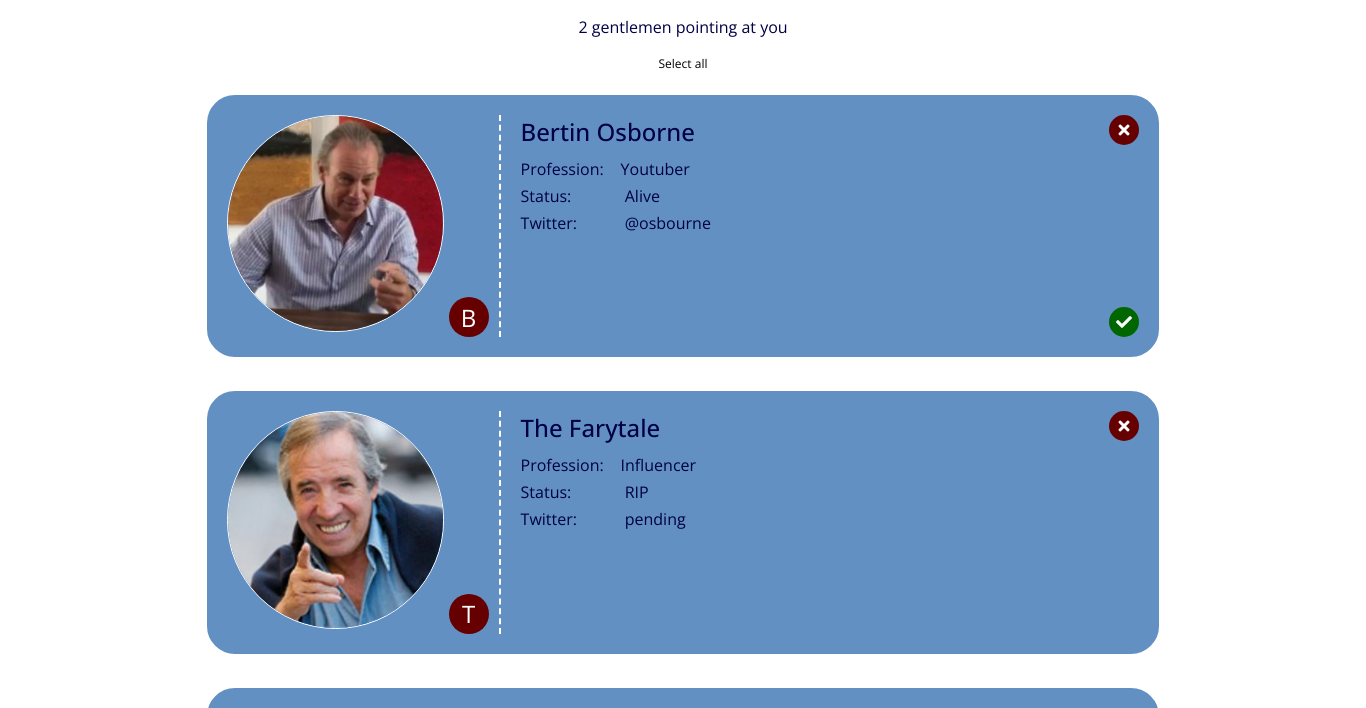
Test: Given Gentleman component › Click delete button and there is one heading less
Click the 1st icon with test id "btn-test".
click(1124, 130)  # box top-left (1109, 115), bottom-right (1139, 145)
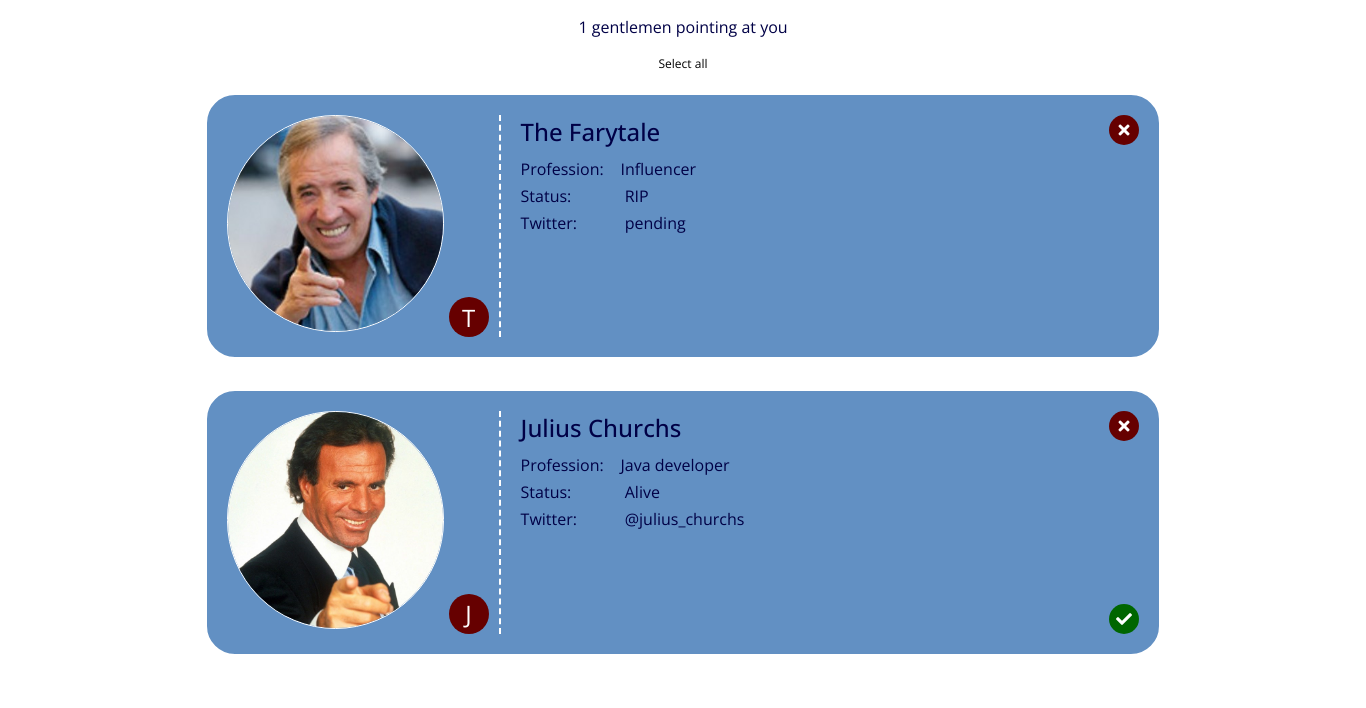
Result: the number of headings is 2 at top-left (521, 115), bottom-right (660, 148); top-left (521, 411), bottom-right (681, 444)
